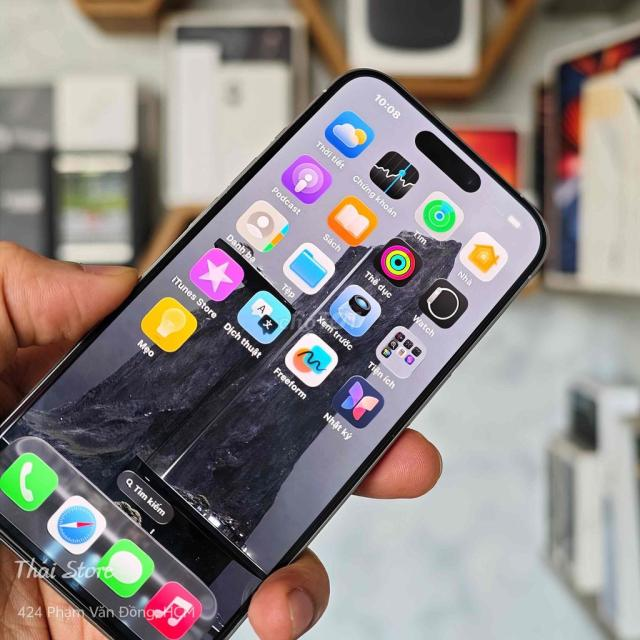gen_15: (10, 66, 550, 628)
